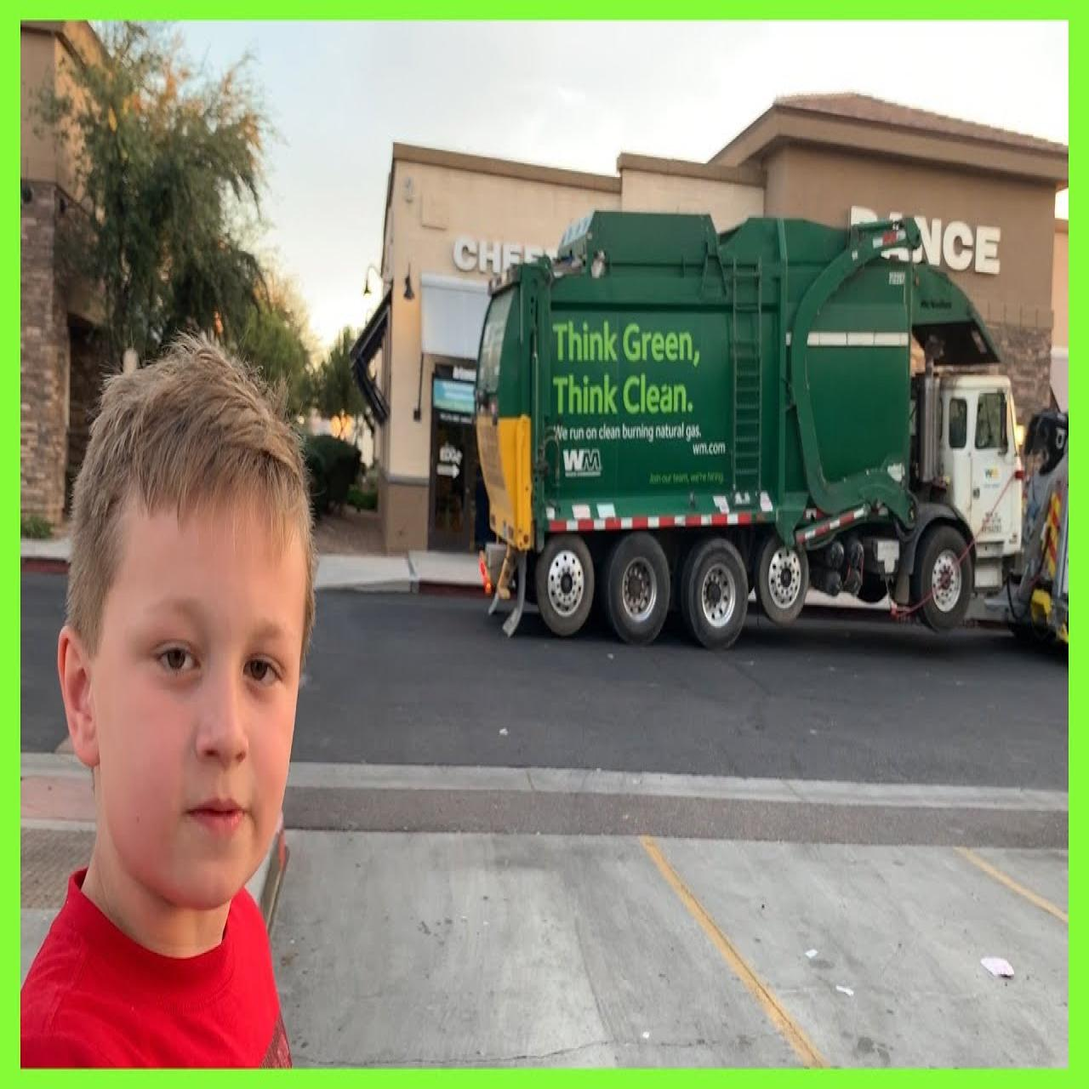vehicle: (476, 214, 1022, 647)
